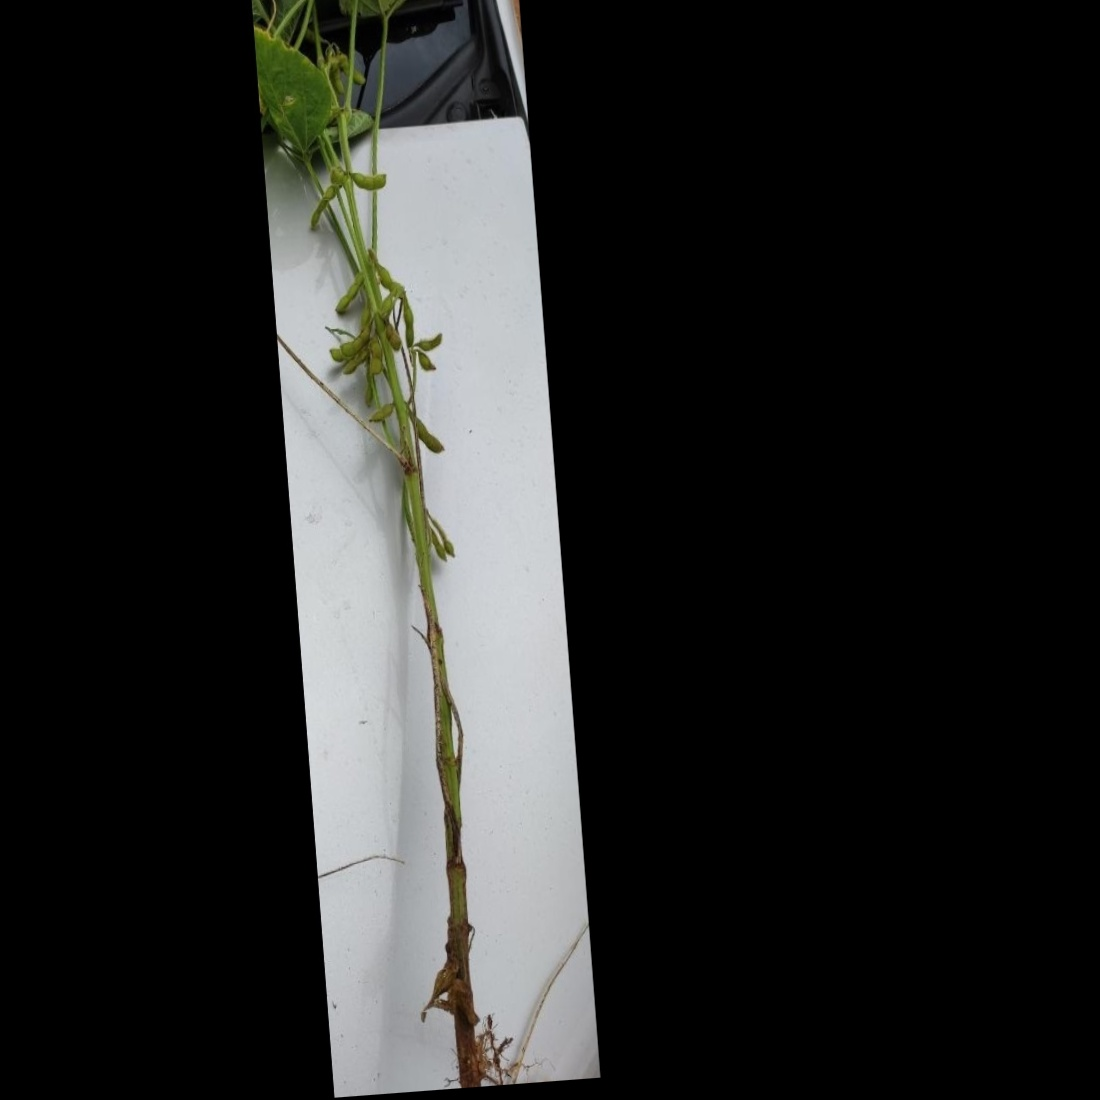pod: (406, 408, 446, 457), (304, 182, 345, 231), (330, 271, 365, 315), (349, 165, 388, 192), (424, 523, 447, 567), (410, 329, 451, 354), (337, 48, 363, 86), (399, 296, 416, 351), (366, 333, 386, 376), (413, 347, 439, 376), (364, 401, 395, 425), (381, 320, 403, 352), (443, 529, 460, 562), (331, 59, 345, 96)
soy: (250, 0, 579, 1100)
